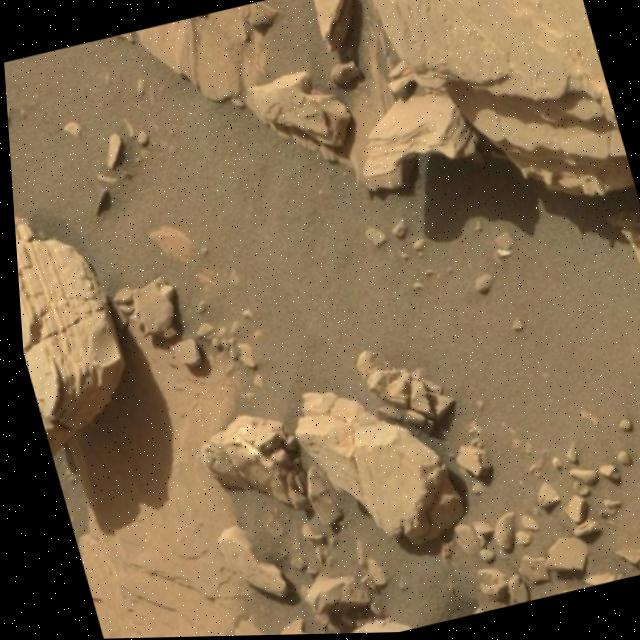mars-rocks: (289, 393, 457, 544), (195, 416, 301, 511), (244, 70, 349, 147), (353, 351, 449, 434), (209, 526, 278, 597), (295, 576, 361, 617), (129, 277, 172, 337), (314, 0, 354, 51), (538, 539, 581, 573), (450, 447, 477, 478), (164, 339, 196, 365)
